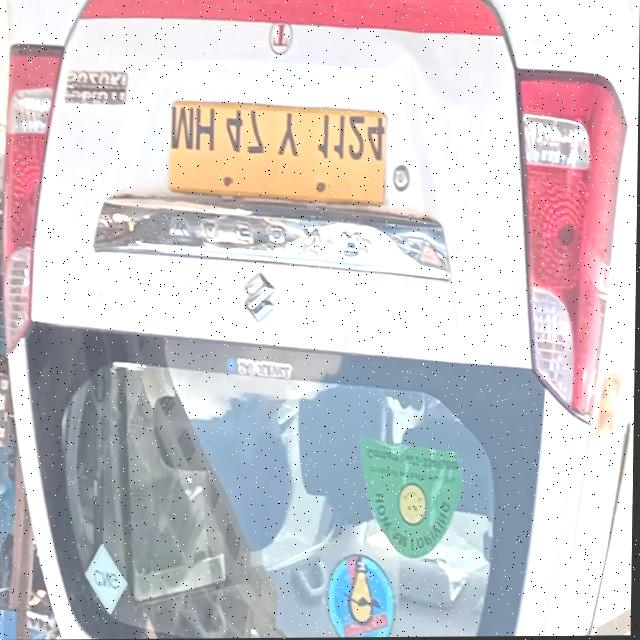plate: (167, 99, 388, 210)
